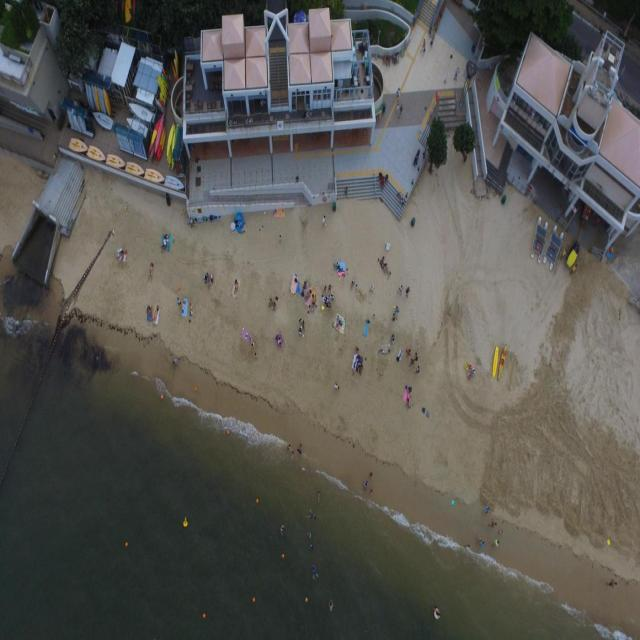tree: (426, 115, 448, 173), (452, 120, 476, 162)
